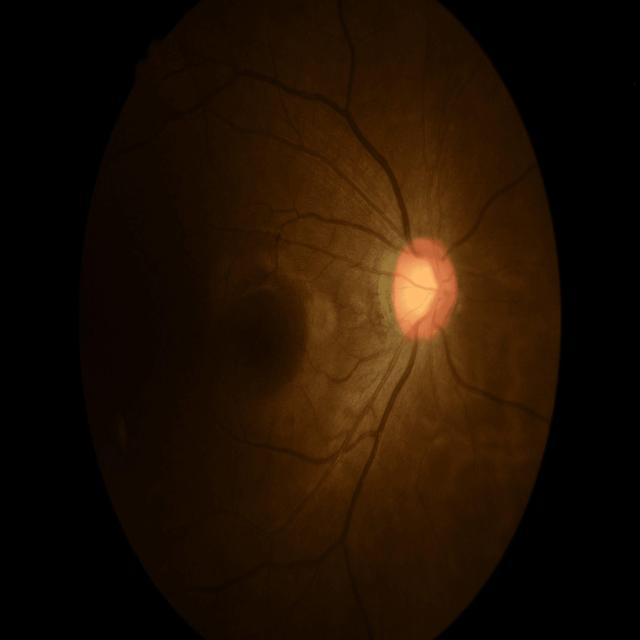cup: (406, 256, 440, 324)
disk: (390, 235, 458, 342)
